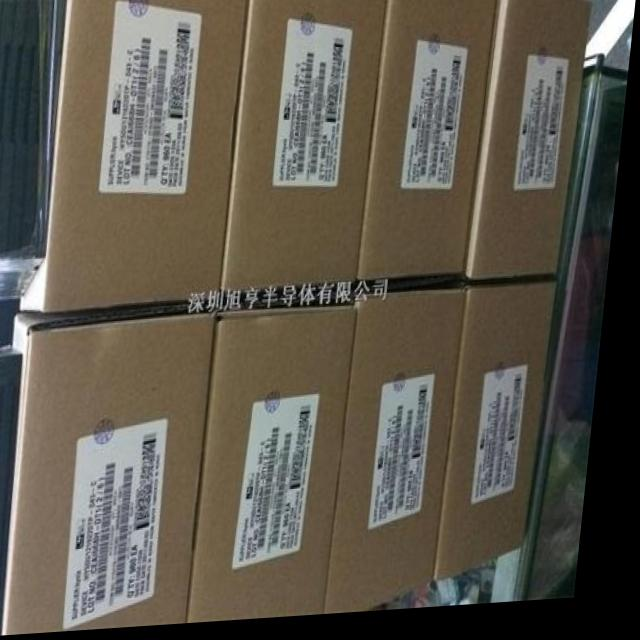box: (24, 0, 246, 312), (17, 304, 221, 636), (202, 307, 366, 627), (226, 0, 387, 297), (341, 293, 472, 618), (364, 0, 499, 287), (473, 0, 595, 286), (449, 287, 564, 590)
